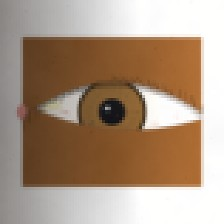pinguecula_lesion: (31, 89, 72, 122)
